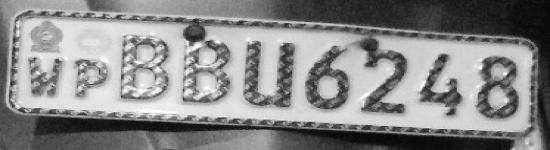2: (356, 40, 414, 122)
4: (413, 48, 469, 121)
6: (300, 39, 354, 117)
8: (464, 47, 527, 124)
B: (114, 29, 176, 106), (178, 35, 235, 109)
P: (69, 55, 114, 102)
U: (237, 31, 301, 112)
W: (23, 53, 68, 102)
